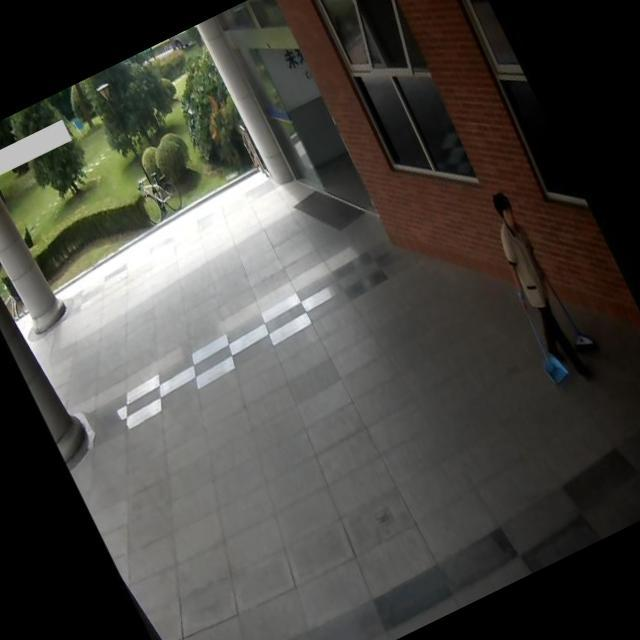person: (475, 185, 603, 398)
